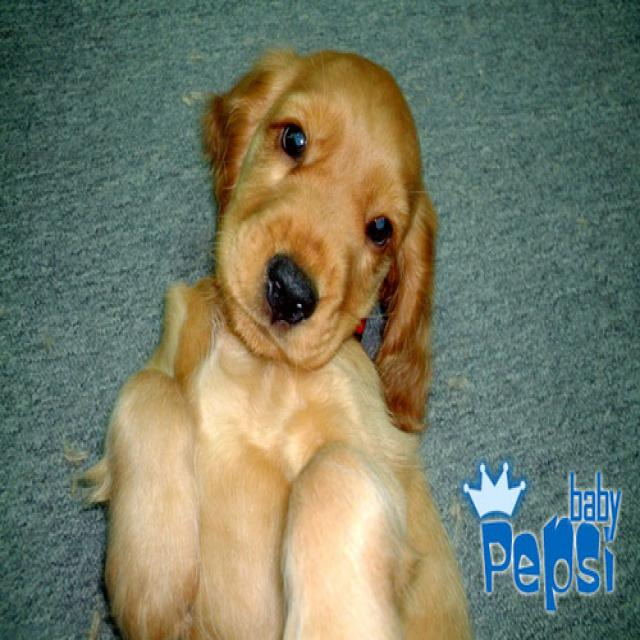dog-english_cocker_spaniel: (77, 37, 479, 636)
